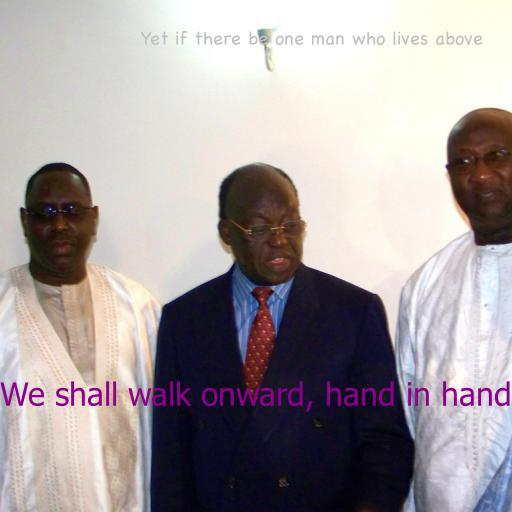Chalkboard: (141, 30, 483, 46)
Tahoma: (0, 381, 512, 412)
